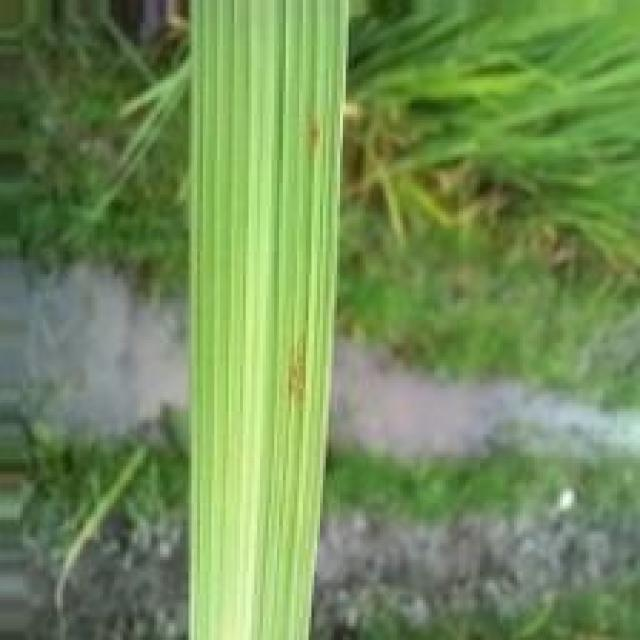Brown_Spot: (279, 331, 311, 422), (302, 113, 321, 158)
